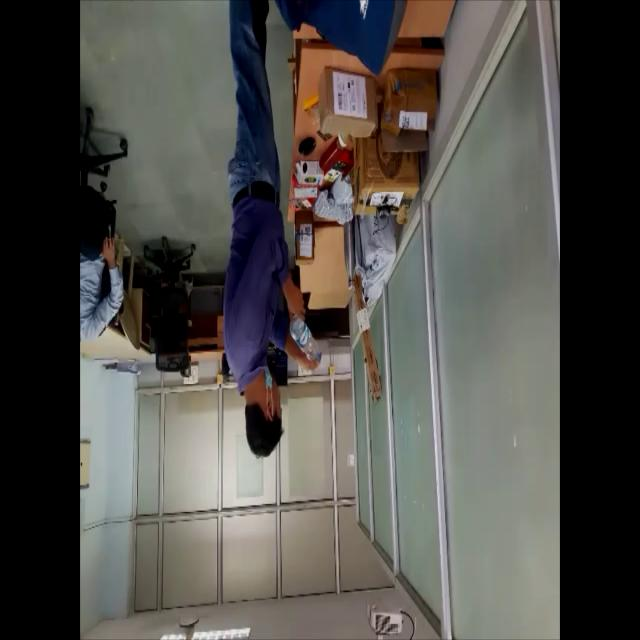normal: (212, 0, 329, 461)
